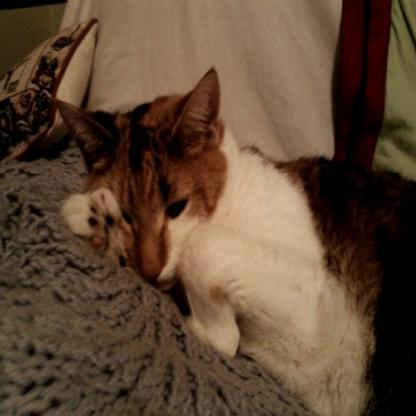Target: (49, 93, 416, 416)
